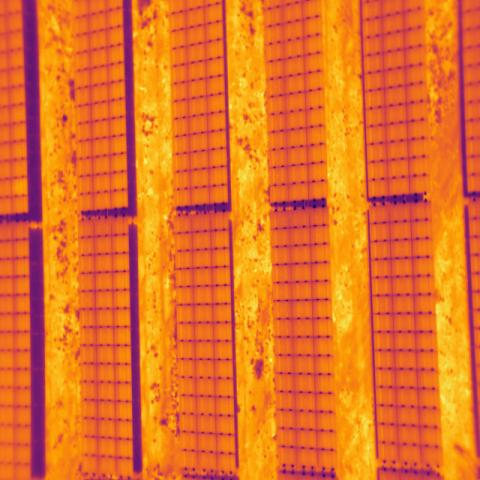fault: (11, 176, 28, 196)
